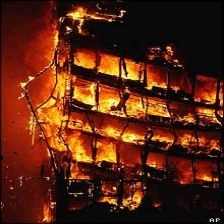fire: (14, 6, 221, 208)
